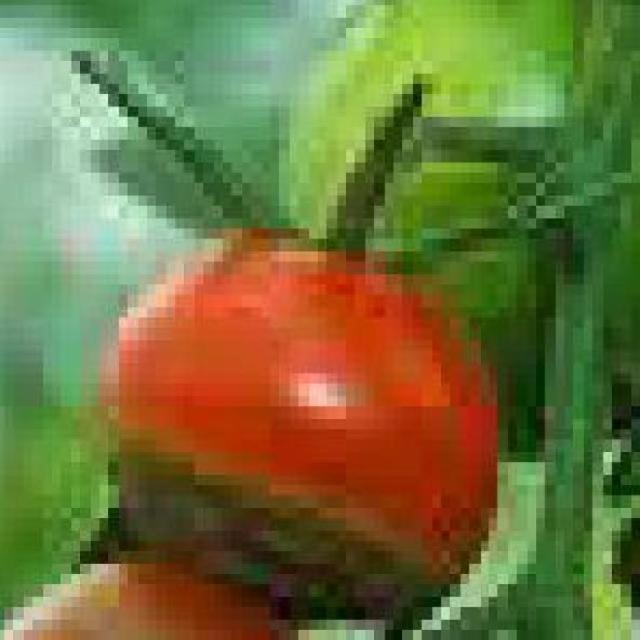Blossom End Rot Fruit: (64, 284, 296, 424)
